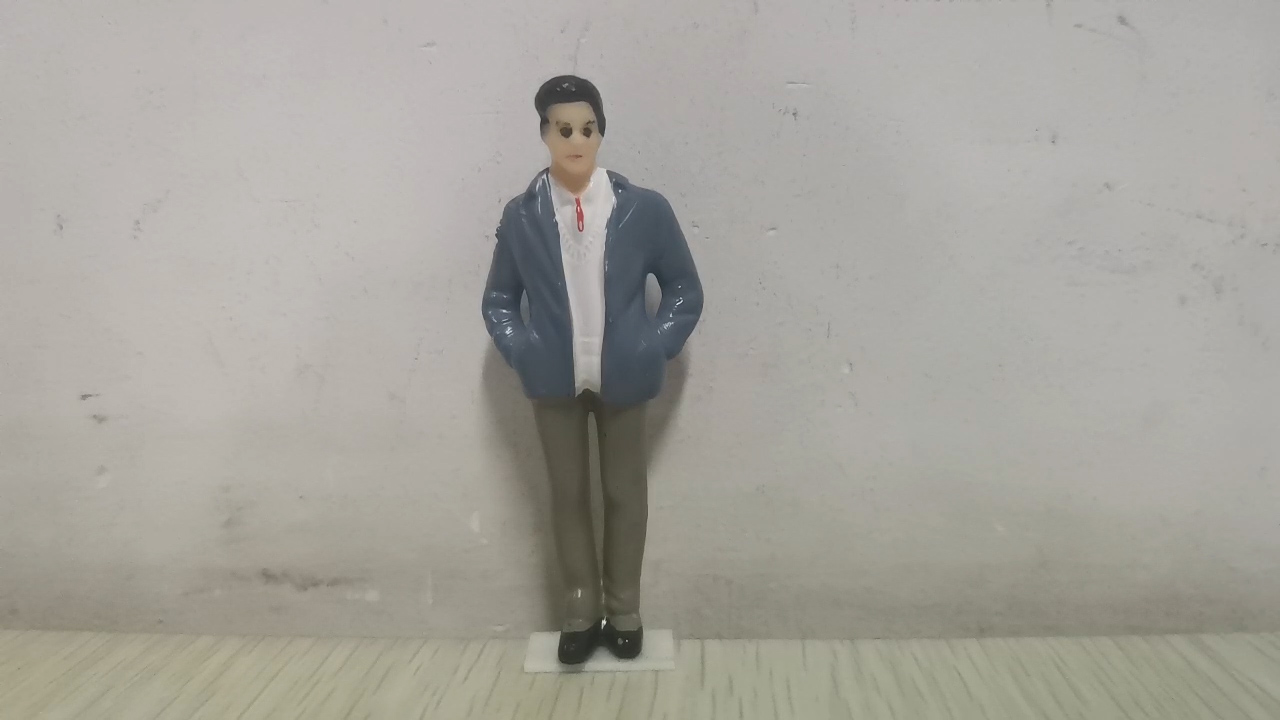person: (479, 74, 706, 666)
